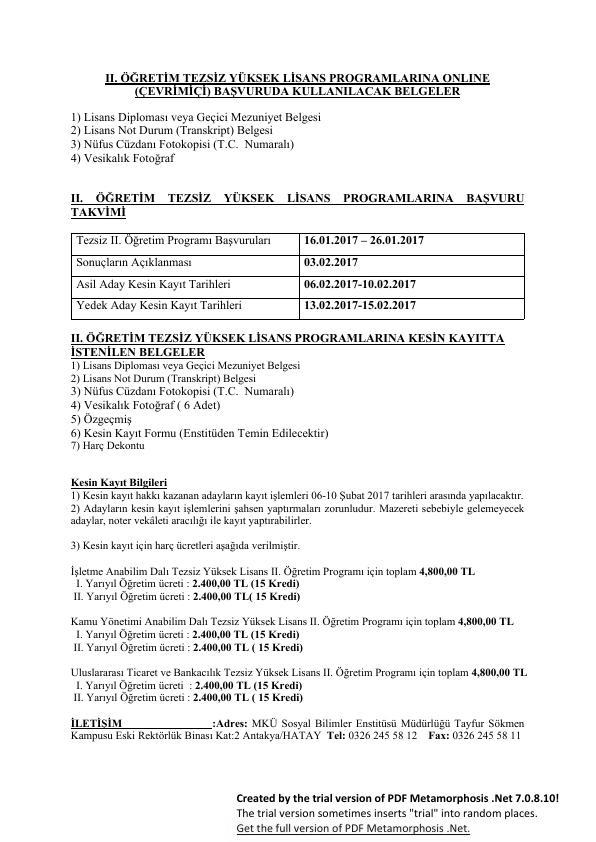table: (63, 225, 532, 323)
text: (62, 475, 538, 749), (66, 329, 514, 453), (230, 785, 565, 839), (99, 63, 499, 101), (62, 188, 534, 220), (65, 112, 331, 168)
